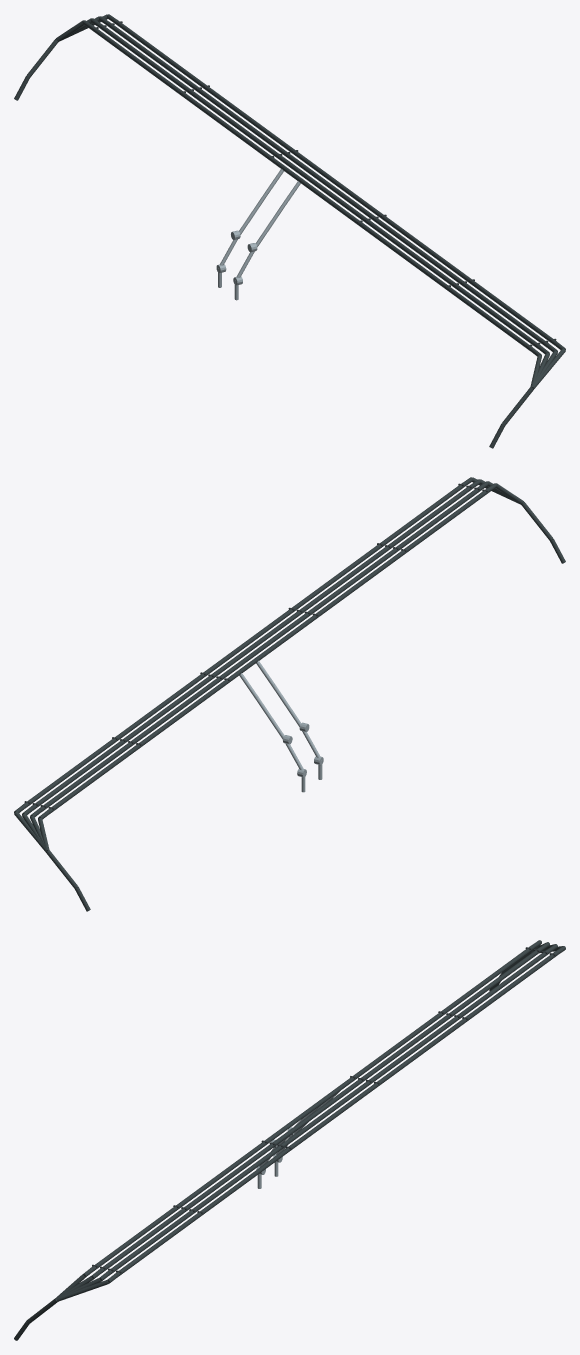
Rendered from TC_T01_CableHarness.fbx.
3 views of the same model, one above another, from view 1: azimuth 30°, elevation 25°; view 2: azimuth 150°, elevation 25°; view 3: azimuth 330°, elevation 25° (orthographic).
Parts seen in each view (by area): view 1: TC_T01_CableHarness; view 2: TC_T01_CableHarness; view 3: TC_T01_CableHarness.
Boxes of the visible parts, box(x1,y1,x2,y2) form: TC_T01_CableHarness: box(14, 14, 565, 448); TC_T01_CableHarness: box(14, 477, 565, 911); TC_T01_CableHarness: box(14, 940, 565, 1340).
Size of the model in its own units: 120 by 132 by 1081.
